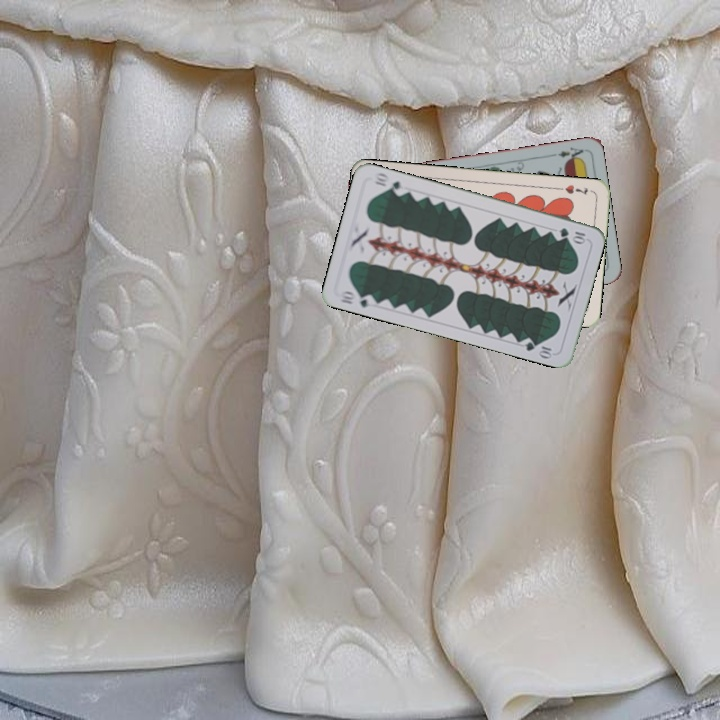EA: (547, 143, 586, 163)
G10: (336, 287, 377, 310), (555, 224, 589, 245)
H7: (554, 181, 590, 198)
